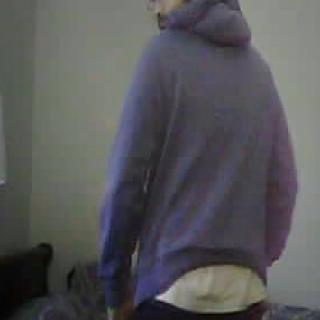Blue Hoodie: (102, 28, 296, 270)
Navy Sweatpants: (135, 292, 270, 320)
